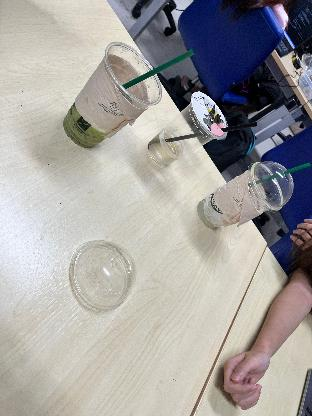Plastic Cup: (63, 42, 161, 152), (198, 161, 282, 231), (68, 239, 140, 315), (156, 90, 227, 166)
